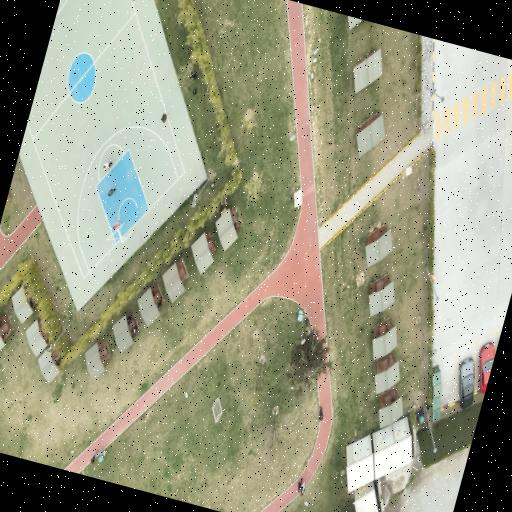person: (90, 450, 97, 463), (297, 477, 303, 492), (103, 161, 111, 171), (112, 219, 119, 229), (189, 70, 196, 79), (318, 406, 322, 420), (108, 187, 115, 195), (160, 113, 166, 122)
